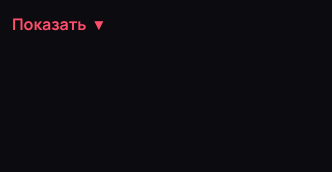
Scenario: Toggle › кнопка показывает и прячет содержимое
This screenshot has width=332, height=172.
Expected: the text "Additional information" is not shown
Click the button "Показать".
click(57, 24)  # box [12, 12, 102, 37]
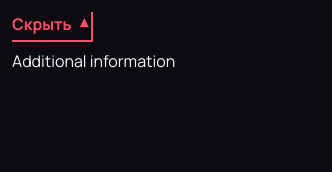
Expected: the text "Additional information" is shown, [12, 50, 175, 72]
Expected: the button "Скрыть" is expanded
Click the button "Скрыть".
click(50, 24)  # box [12, 12, 88, 37]
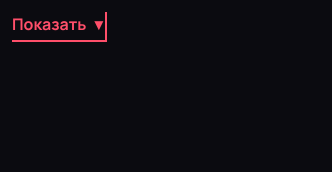
Expected: the text "Additional information" is gone
